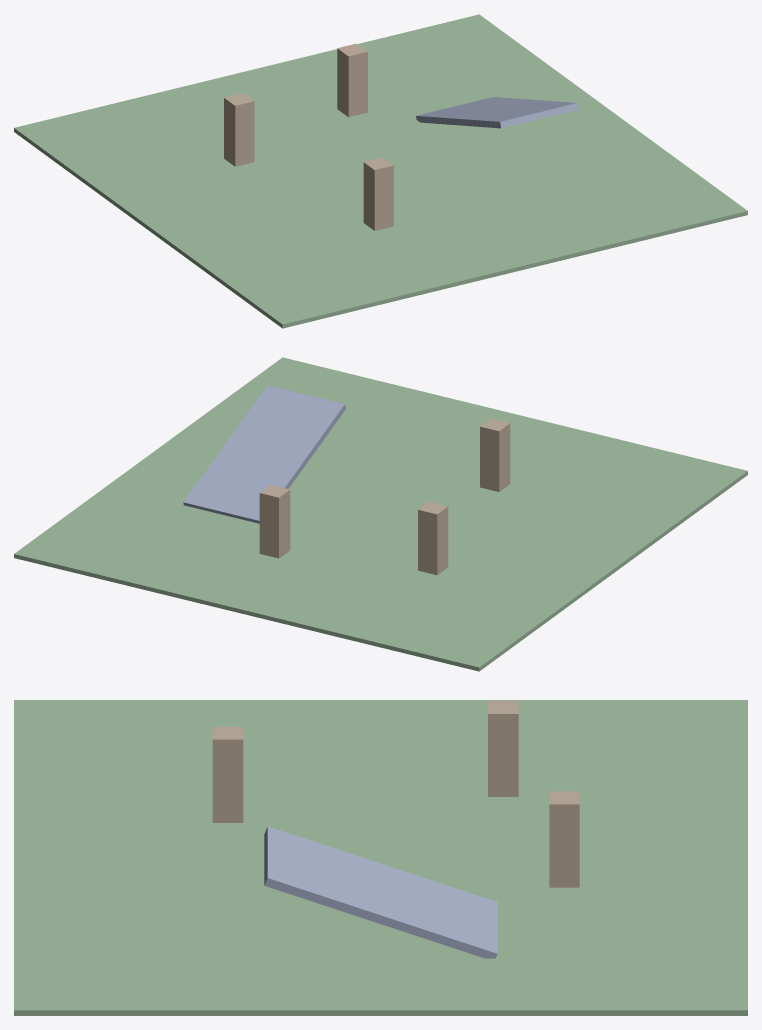
Rendered from test_level.glb.
The picture shows the model from 3 angles, top to bottom: view 1: azimuth 30°, elevation 25°; view 2: azimuth 150°, elevation 25°; view 3: azimuth 270°, elevation 25°; orthographic projection. The views are drawn at different scales.
Parts seen in each view (by area): view 1: Ground, Ramp, Pillar.1, Pillar.2, Pillar.0; view 2: Ground, Ramp, Pillar.2, Pillar.0, Pillar.1; view 3: Ground, Ramp, Pillar.1, Pillar.2, Pillar.0.
Part boxes in pixels (x1,y1,x2,y2): Ground: (14,14,747,328); Ramp: (416,97,578,128); Pillar.1: (363,157,393,230); Pillar.2: (337,43,367,117); Pillar.0: (224,93,254,166); Ground: (14,357,747,671); Ramp: (183,385,345,523); Pillar.2: (259,485,290,558); Pillar.0: (418,501,448,575); Pillar.1: (480,418,510,491); Ground: (14,700,747,1015); Ramp: (264,826,497,958); Pillar.1: (212,727,243,822); Pillar.2: (549,791,579,887); Pillar.0: (488,701,518,796).
Size of what is drawn, in the model's own units: 24 by 3.2 by 24.
